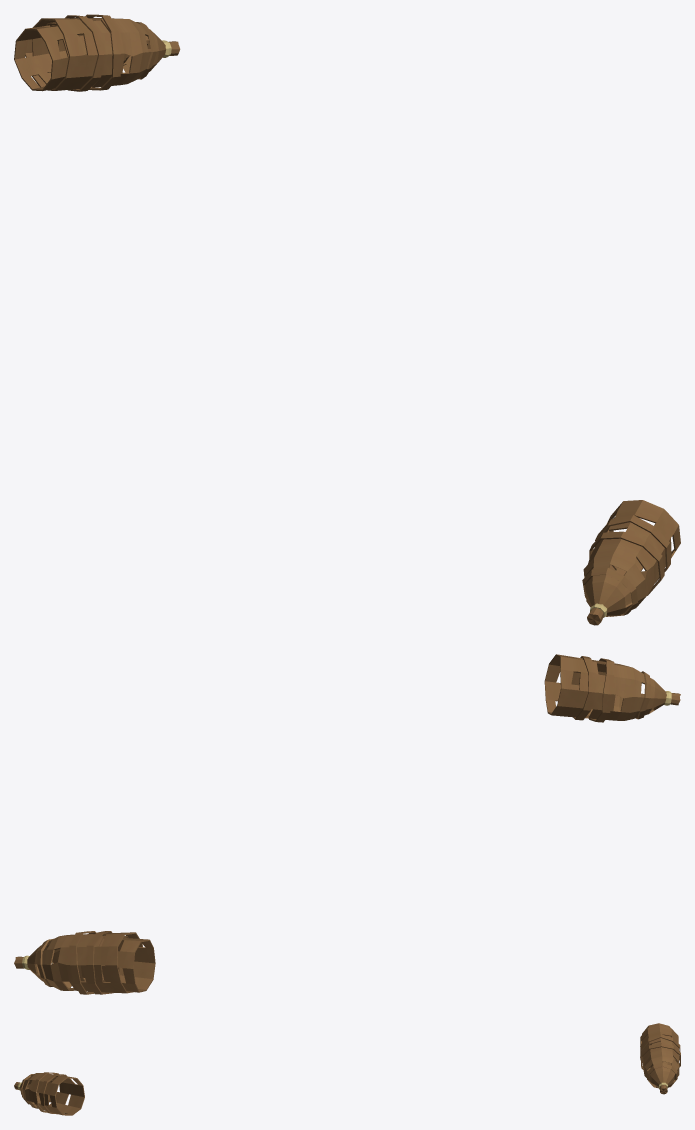
3 renders of one model, top to bottom at view 1: azimuth 30°, elevation 25°; view 2: azimuth 150°, elevation 25°; view 3: azimuth 270°, elevation 25°, orthographic. The views are drawn at different scales.
Parts seen in each view (by area): view 1: Fishtrap.002, Fishtrap, Fishtrap.001; view 2: Fishtrap.002, Fishtrap, Fishtrap.001; view 3: Fishtrap.002, Fishtrap, Fishtrap.001.
Boxes of the visible parts, left/top/right/bottom form: Fishtrap.002: left=582, top=500, right=680, bottom=625; Fishtrap: left=25, top=14, right=180, bottom=91; Fishtrap.001: left=14, top=20, right=148, bottom=91; Fishtrap.002: left=544, top=654, right=680, bottom=722; Fishtrap: left=14, top=931, right=142, bottom=994; Fishtrap.001: left=52, top=935, right=155, bottom=992; Fishtrap.002: left=14, top=1072, right=84, bottom=1115; Fishtrap: left=640, top=1025, right=680, bottom=1094; Fishtrap.001: left=641, top=1023, right=676, bottom=1068.
Bounding box in the file's own units: 1.17 × 0.9361 × 6.52.
2 materials, 2 textured.
